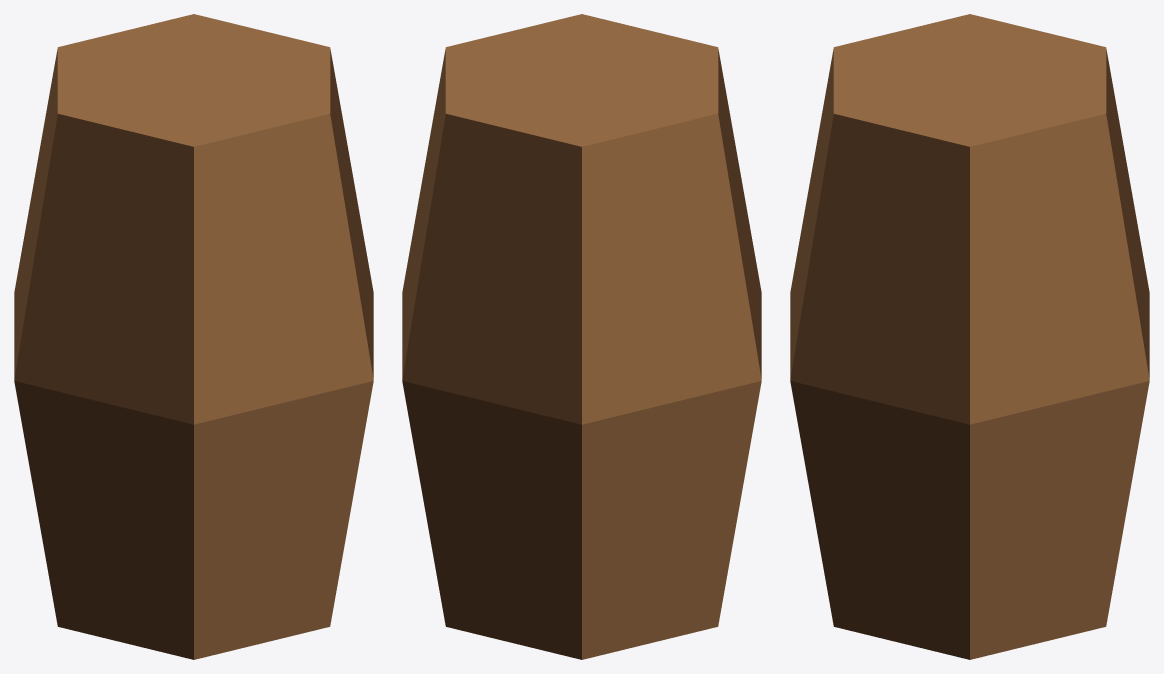
Rendered from SM_Prop_Barrel_LQ.glb.
3 renders of one model, left to right at view 1: azimuth 30°, elevation 25°; view 2: azimuth 150°, elevation 25°; view 3: azimuth 270°, elevation 25°, orthographic.
Parts seen in each view (by area): view 1: SM_Prop_Barrel_LQ; view 2: SM_Prop_Barrel_LQ; view 3: SM_Prop_Barrel_LQ.
Boxes of the visible parts, x1=… form: SM_Prop_Barrel_LQ: x1=14, y1=14, x2=373, y2=659; SM_Prop_Barrel_LQ: x1=402, y1=14, x2=761, y2=659; SM_Prop_Barrel_LQ: x1=790, y1=14, x2=1149, y2=659.
Size of the model in its own units: 0.66 by 0.9 by 0.5716.
Materials: 1 (1 with a texture image).
